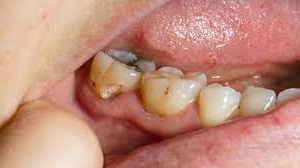Caries: (103, 46, 155, 75)
